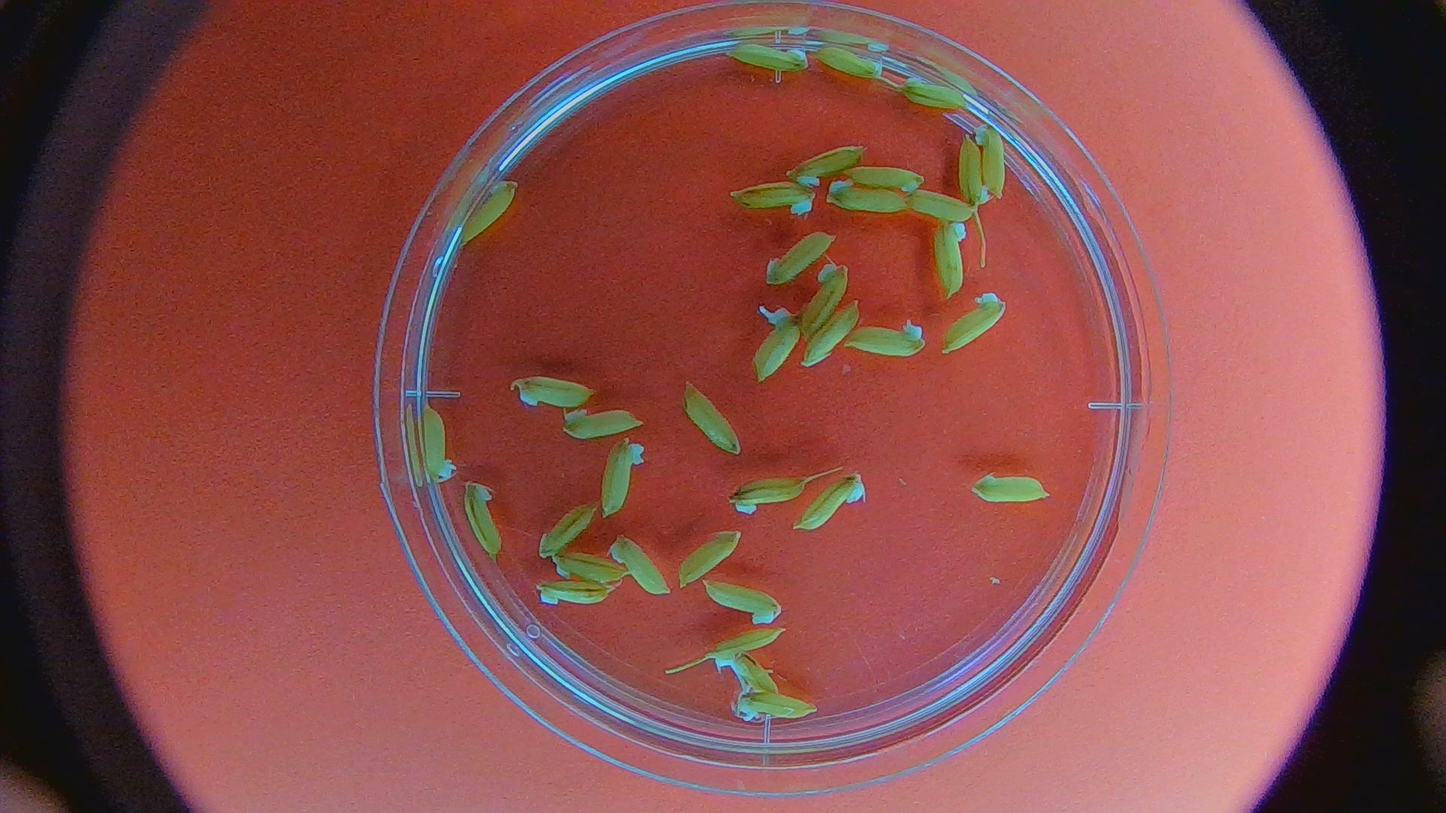no: (678, 382, 746, 456), (409, 388, 459, 485), (794, 472, 865, 531), (923, 220, 972, 303), (733, 687, 825, 731), (767, 230, 839, 286), (700, 580, 789, 625), (941, 294, 1006, 355), (462, 180, 523, 245), (679, 530, 747, 588), (724, 475, 816, 515), (802, 263, 849, 341), (609, 535, 670, 595), (804, 302, 863, 363), (816, 33, 882, 87), (785, 142, 865, 185), (728, 38, 807, 81), (538, 504, 599, 559), (461, 480, 503, 559), (602, 440, 645, 517), (825, 177, 913, 214), (970, 471, 1053, 510), (728, 181, 816, 217), (508, 376, 597, 410), (728, 649, 783, 703), (847, 321, 926, 358), (844, 160, 929, 194), (956, 132, 993, 208), (902, 185, 976, 223), (898, 75, 972, 112), (560, 408, 649, 438), (553, 550, 627, 585), (536, 574, 615, 605), (975, 126, 1009, 197)
yes: (711, 625, 789, 676), (753, 315, 801, 381)
